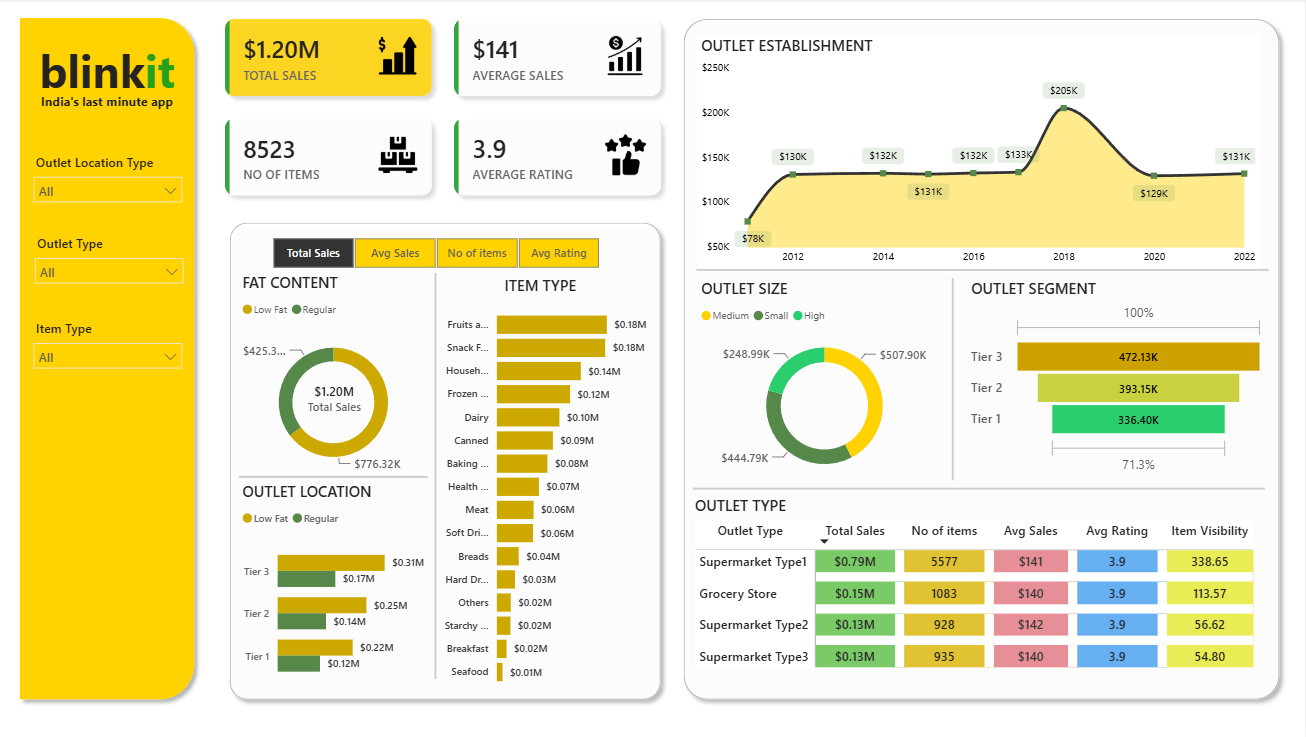

This screenshot's page, from the dashboard's own definition file:
{"tool":"powerbi","page":{"name":"Page 1","canvas":[1400,800],"ordinal":0},"visuals":[{"type":"shape","box":[13.4,12.1,205.1,749.3],"z":0},{"type":"textbox","box":[13.4,40.2,205.1,84.5],"z":1000},{"type":"textbox","box":[13.4,96.5,205.1,38.9],"z":2000},{"type":"cardVisual","fields":{"Data":["BlinkIT Grocery Data.Sum of sales","BlinkIT Grocery Data.Avg sales","BlinkIT Grocery Data.No of items","BlinkIT Grocery Data.Avg Rating"]},"box":[223.9,4,504,227.9],"z":3000},{"type":"image","box":[643.4,40.2,56.3,42.9],"z":4000},{"type":"image","box":[403.5,40.2,48.3,42.9],"z":5000},{"type":"image","box":[398.1,147.5,59,41.6],"z":6000},{"type":"image","box":[643.4,146.1,56.3,44.2],"z":7000},{"type":"shape","box":[238.6,231.9,479.9,529.5],"z":8000},{"type":"donutChart","title":"FAT CONTENT","fields":{"Y":["BlinkIT Grocery Data.Sum of sales"],"Category":["BlinkIT Grocery Data.Item Fat Content"]},"box":[255.4,293.2,205.4,231.1],"z":9000},{"type":"slicer","fields":{"Values":["Matrixs.Matrixs"]},"box":[268.1,250.7,399.5,45.6],"z":10000},{"type":"cardVisual","fields":{"Data":["BlinkIT Grocery Data.Sum of sales"]},"box":[288.2,387.4,143.4,83.1],"z":11000},{"type":"clusteredBarChart","title":"OUTLET LOCATION","fields":{"Y":["BlinkIT Grocery Data.Sum of sales"],"Category":["BlinkIT Grocery Data.Outlet Location Type"],"Series":["BlinkIT Grocery Data.Item Fat Content"]},"box":[255.4,517.6,205.4,229.7],"z":12000},{"type":"barChart","title":"ITEM TYPE","fields":{"Y":["BlinkIT Grocery Data.Sum of sales"],"Category":["BlinkIT Grocery Data.Item Type"]},"box":[461.1,296.2,238.6,451.7],"z":13000},{"type":"shape","box":[256.8,494.6,202.7,37.8],"z":14000},{"type":"shape","box":[441.9,294.6,51.4,435.1],"z":15000},{"type":"shape","box":[725.2,13.4,656.8,748],"z":16000},{"type":"lineChart","title":"OUTLET ESTABLISHMENT","fields":{"Category":["BlinkIT Grocery Data.Outlet Establishment Year"],"Y":["BlinkIT Grocery Data.Sum of sales"]},"box":[748,38.9,604.6,256],"z":17000},{"type":"shape","box":[748,235.9,613.9,111.3],"z":17001},{"type":"donutChart","title":"OUTLET SIZE","fields":{"Y":["BlinkIT Grocery Data.Sum of sales"],"Category":["BlinkIT Grocery Data.Outlet Size"]},"box":[748,300.3,274.8,225.2],"z":17002},{"type":"shape","box":[933,300.3,179.6,217.2],"z":17003},{"type":"funnel","title":"OUTLET SEGMENT","fields":{"Y":["Sum(BlinkIT Grocery Data.Sales)"],"Category":["BlinkIT Grocery Data.Outlet Location Type"]},"box":[1037.5,300.3,324.4,214.5],"z":17004},{"type":"shape","box":[744,470.5,613.9,111.3],"z":17005},{"type":"pivotTable","title":"OUTLET TYPE","fields":{"Values":["BlinkIT Grocery Data.Sum of sales","BlinkIT Grocery Data.No of items","BlinkIT Grocery Data.Avg sales","BlinkIT Grocery Data.Avg Rating","Sum(BlinkIT Grocery Data.Item Visibility)"],"Rows":["BlinkIT Grocery Data.Outlet Type"]},"box":[741.9,532.4,613.5,217.6],"z":17006},{"type":"slicer","fields":{"Values":["BlinkIT Grocery Data.Outlet Location Type"]},"box":[27,162.2,179.7,70.3],"z":17007},{"type":"slicer","fields":{"Values":["BlinkIT Grocery Data.Outlet Type"]},"box":[28.4,250,179.7,70.3],"z":17008},{"type":"slicer","fields":{"Values":["BlinkIT Grocery Data.Item Type"]},"box":[27,340.5,179.7,70.3],"z":17009}]}

Visuals, with their boxes in screenshot pixels (x1, y1, x2, y2), scaled from the page's 1400x800 canvas onto the 1306x737 screenshot:
shape: bbox(13, 11, 204, 701)
textbox: bbox(13, 37, 204, 115)
textbox: bbox(13, 89, 204, 125)
cardVisual - BlinkIT Grocery Data.Sum of sales x BlinkIT Grocery Data.Avg sales: bbox(209, 4, 679, 214)
image: bbox(600, 37, 653, 77)
image: bbox(376, 37, 421, 77)
image: bbox(371, 136, 426, 174)
image: bbox(600, 135, 653, 175)
shape: bbox(223, 214, 670, 701)
"FAT CONTENT" donutChart: bbox(238, 270, 430, 483)
slicer - Matrixs.Matrixs: bbox(250, 231, 623, 273)
cardVisual - BlinkIT Grocery Data.Sum of sales: bbox(269, 357, 403, 433)
"OUTLET LOCATION" clusteredBarChart: bbox(238, 477, 430, 688)
"ITEM TYPE" barChart: bbox(430, 273, 653, 689)
shape: bbox(240, 456, 429, 490)
shape: bbox(412, 271, 460, 672)
shape: bbox(677, 12, 1289, 701)
"OUTLET ESTABLISHMENT" lineChart: bbox(698, 36, 1262, 272)
shape: bbox(698, 217, 1270, 320)
"OUTLET SIZE" donutChart: bbox(698, 277, 954, 484)
shape: bbox(870, 277, 1038, 477)
"OUTLET SEGMENT" funnel: bbox(968, 277, 1270, 474)
shape: bbox(694, 433, 1267, 536)
"OUTLET TYPE" pivotTable: bbox(692, 490, 1264, 691)
slicer - BlinkIT Grocery Data.Outlet Location Type: bbox(25, 149, 193, 214)
slicer - BlinkIT Grocery Data.Outlet Type: bbox(26, 230, 194, 295)
slicer - BlinkIT Grocery Data.Item Type: bbox(25, 314, 193, 378)
